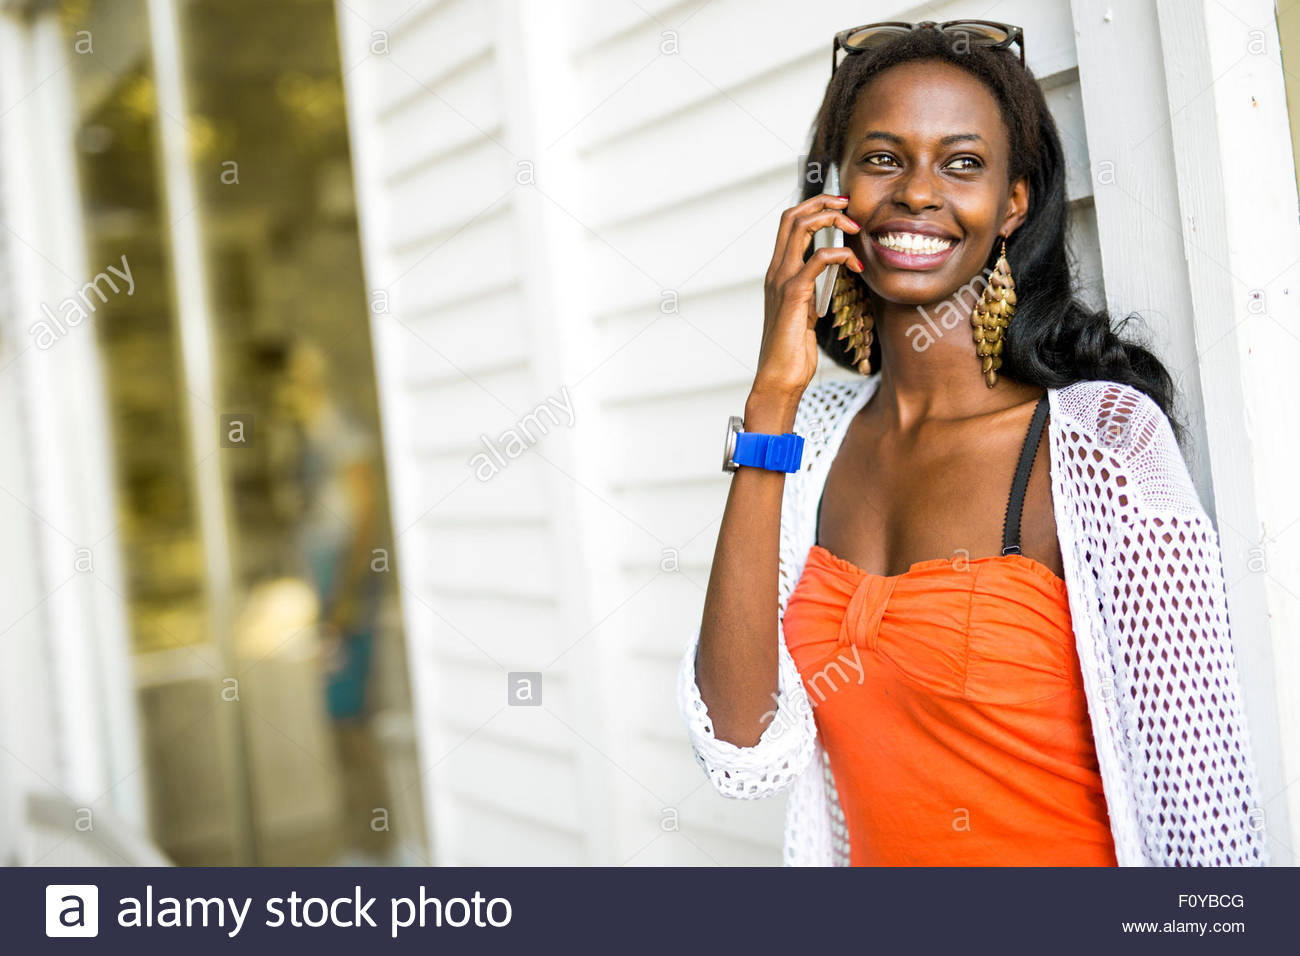phone: (761, 157, 862, 312)
talk: (745, 108, 1004, 383)
